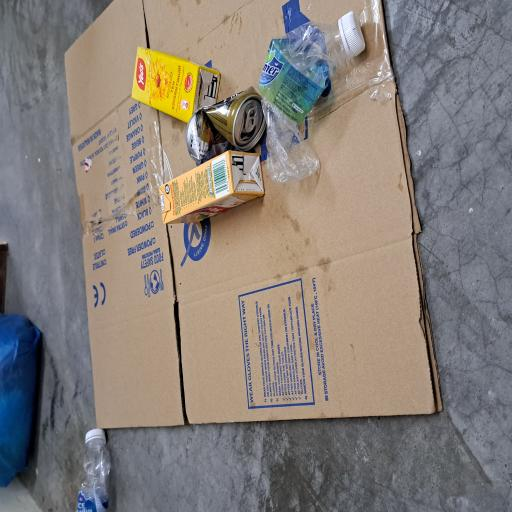can: (262, 243, 316, 353)
cardboard: (64, 84, 383, 512)
drink carton: (218, 210, 270, 352), (292, 174, 346, 296)
plastic bottle: (246, 345, 376, 491), (0, 101, 63, 153)
plastic bottle cap: (338, 446, 375, 488), (48, 113, 63, 143)
